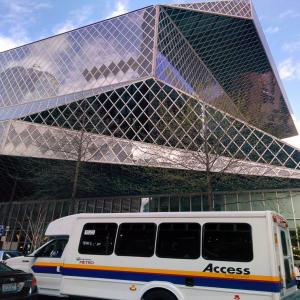Vehicle-registration-plate: (3, 283, 18, 293)
